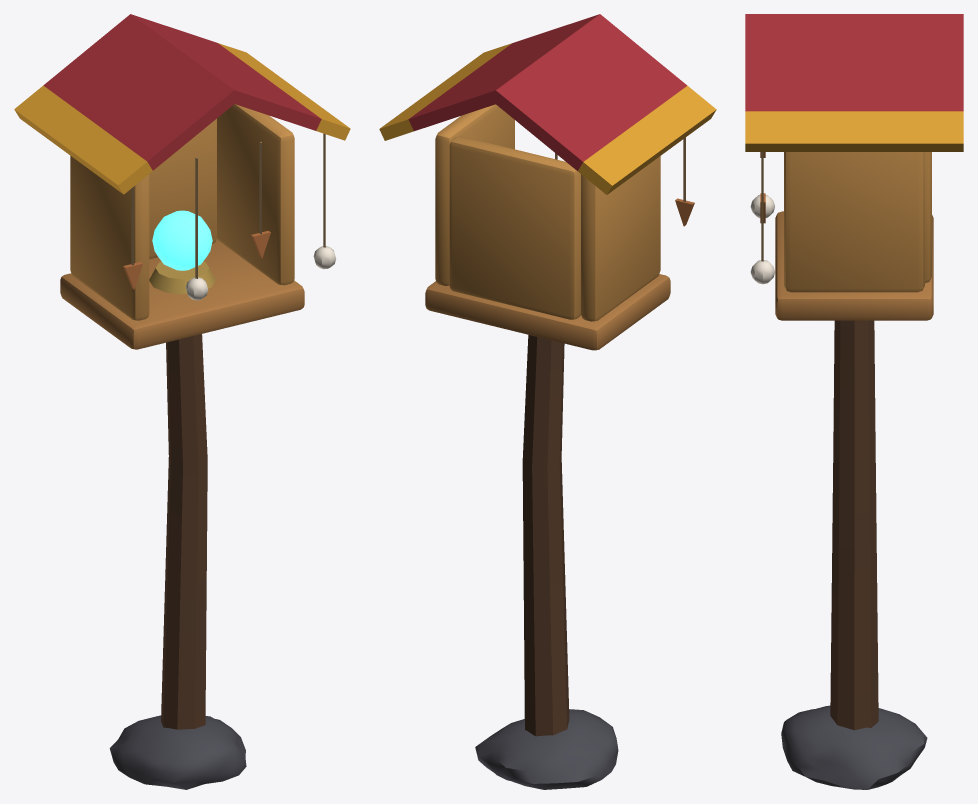
The model's file is deco_offering_shrine_pole.fbx.
3 views of the same model, side by side, from view 1: azimuth 30°, elevation 25°; view 2: azimuth 150°, elevation 25°; view 3: azimuth 270°, elevation 25° (orthographic). The views are drawn at different scales.
Parts seen in each view (by area): view 1: OfferingShrine_Pole_House, OfferingShrine_Pole_Pole, OfferingShrine_Pole_Orb, OfferingShrine_Pole_Charms; view 2: OfferingShrine_Pole_House, OfferingShrine_Pole_Pole; view 3: OfferingShrine_Pole_House, OfferingShrine_Pole_Pole, OfferingShrine_Pole_Charms.
Part boxes in pixels (<box>): OfferingShrine_Pole_House: <box>14,14,350,349</box>; OfferingShrine_Pole_Pole: <box>109,334,246,789</box>; OfferingShrine_Pole_Orb: <box>149,210,215,294</box>; OfferingShrine_Pole_Charms: <box>123,133,336,300</box>; OfferingShrine_Pole_House: <box>379,14,716,350</box>; OfferingShrine_Pole_Pole: <box>475,335,618,789</box>; OfferingShrine_Pole_House: <box>745,14,963,320</box>; OfferingShrine_Pole_Pole: <box>781,320,927,789</box>; OfferingShrine_Pole_Charms: <box>750,152,775,284</box>.
Size of the model in its own units: 80 by 234 by 62.
